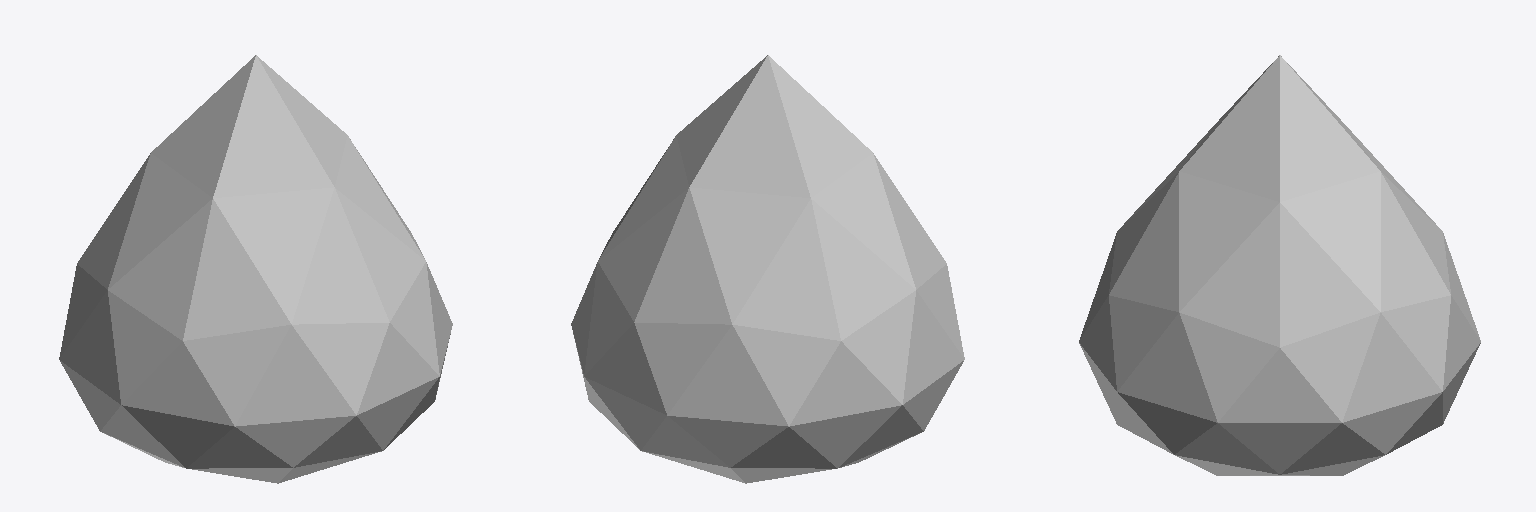
Rendered from Bush_1_Snow.obj.
3 views of the same model, side by side, from view 1: azimuth 30°, elevation 25°; view 2: azimuth 150°, elevation 25°; view 3: azimuth 270°, elevation 25° (orthographic).
Visible parts, largest first — view 1: Bush_1_Snow_Cylinder.026; view 2: Bush_1_Snow_Cylinder.026; view 3: Bush_1_Snow_Cylinder.026.
Boxes of the visible parts, <box> form: Bush_1_Snow_Cylinder.026: <box>59,55,452,483</box>; Bush_1_Snow_Cylinder.026: <box>571,55,964,483</box>; Bush_1_Snow_Cylinder.026: <box>1079,55,1480,475</box>.
Bounding box in the file's own units: 0.9476 × 1.1 × 0.9963.